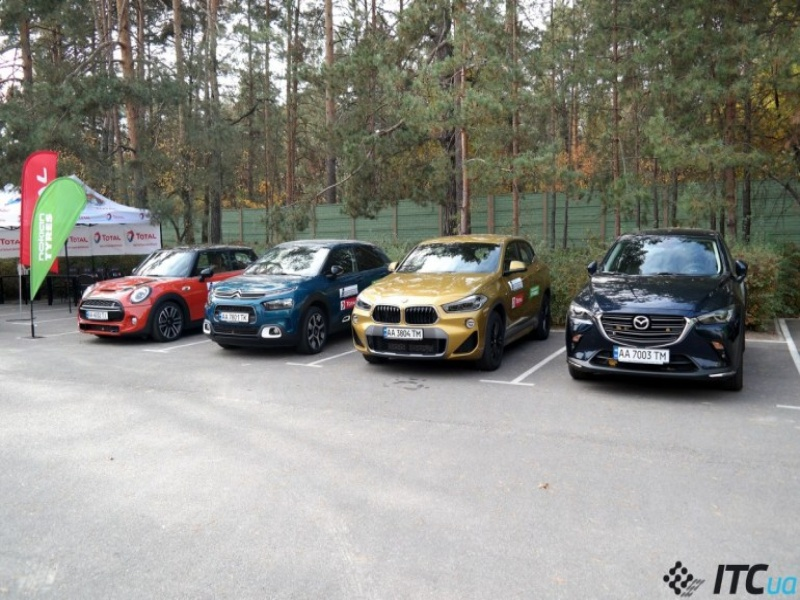car: (566, 229, 746, 391), (350, 233, 554, 374), (202, 238, 392, 356), (76, 247, 258, 343)
plate: (612, 346, 669, 365), (383, 328, 421, 339), (218, 311, 248, 322), (86, 311, 109, 319)
